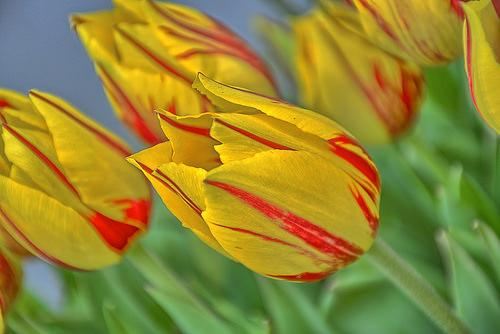tulip: (126, 70, 383, 278), (0, 87, 152, 272)
